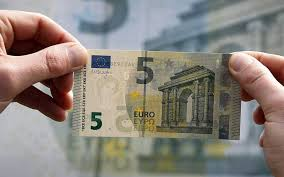billete: (72, 48, 242, 141)
